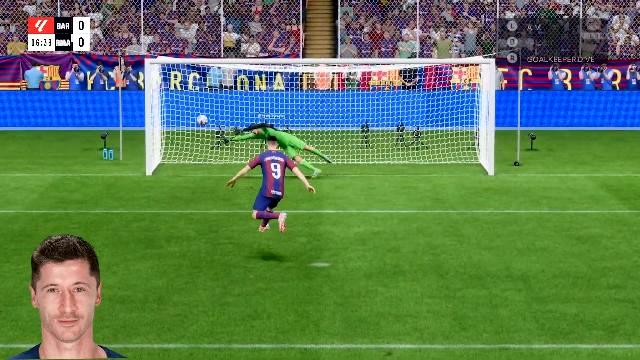bottom-right: (372, 142, 486, 172)
center-down: (257, 142, 369, 172)
goalkeeper: (224, 115, 338, 171)
player: (226, 140, 320, 264)
top-left: (152, 65, 302, 113)
top-right: (334, 66, 492, 122)
